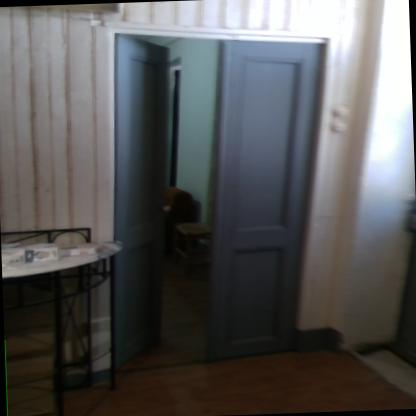semi: (87, 13, 338, 372)
